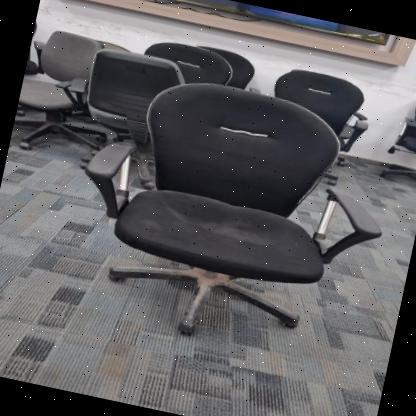chair: (50, 51, 410, 372), (247, 54, 383, 176), (72, 35, 190, 148)
